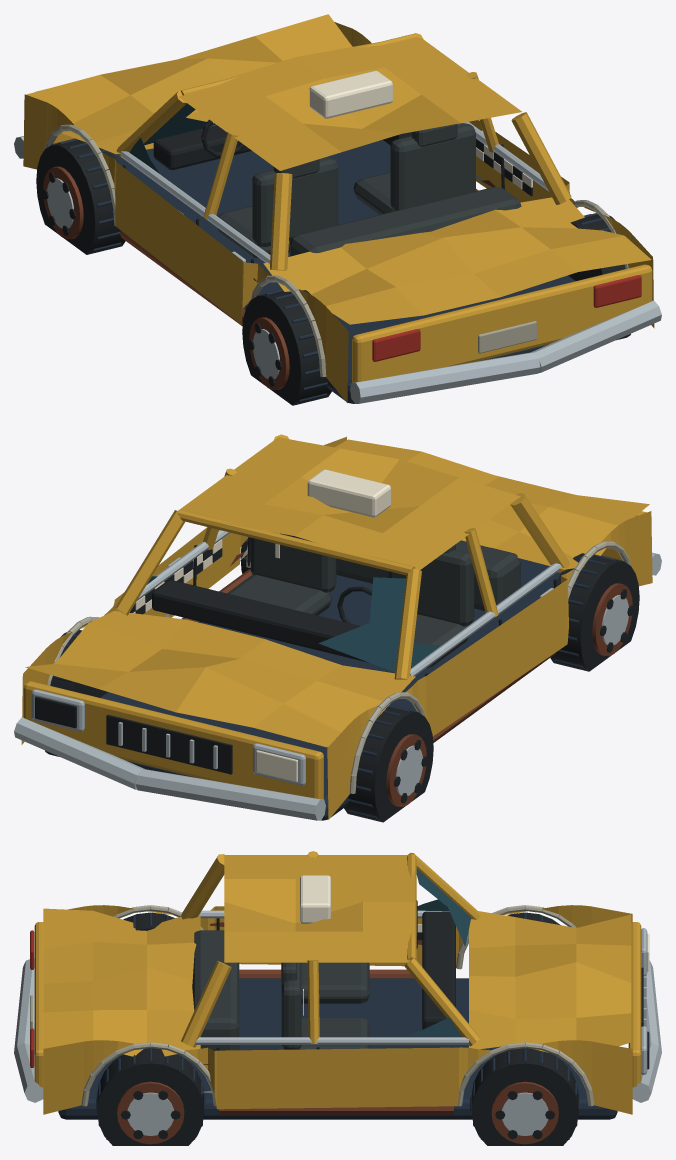
The model's file is crush_car_2.glb.
The picture shows the model from 3 angles, top to bottom: view 1: azimuth 30°, elevation 25°; view 2: azimuth 150°, elevation 25°; view 3: azimuth 270°, elevation 25°; orthographic projection. The views are drawn at different scales.
Parts seen in each view (by area): view 1: Wreck_Taxi mustard, Wreck_Torn charcoal upholstery.004, Wreck_Rubber, Wreck_Bare alloy, Wreck_Truss steel, Wreck_Scraped primer.004, Wreck_Warm white, Wreck_Exposed rust.004, Wreck_Cracked tail lens.004, Wreck_Wreck glass; view 2: Wreck_Taxi mustard, Wreck_Rubber, Wreck_Bare alloy, Wreck_Torn charcoal upholstery.004, Wreck_Truss steel, Wreck_Warm white, Wreck_Wreck glass, Wreck_Exposed rust.004, Wreck_Scraped primer.004; view 3: Wreck_Taxi mustard, Wreck_Rubber, Wreck_Truss steel, Wreck_Bare alloy, Wreck_Torn charcoal upholstery.004, Wreck_Exposed rust.004, Wreck_Scraped primer.004, Wreck_Wreck glass, Wreck_Warm white.
Part boxes in pixels (x1=…): Wreck_Taxi mustard: x1=23, y1=14, x2=654, y2=402; Wreck_Torn charcoal upholstery.004: x1=217, y1=123, x2=521, y2=258; Wreck_Rubber: x1=36, y1=119, x2=625, y2=405; Wreck_Bare alloy: x1=14, y1=90, x2=661, y2=403; Wreck_Truss steel: x1=51, y1=138, x2=630, y2=403; Wreck_Scraped primer.004: x1=44, y1=124, x2=628, y2=376; Wreck_Warm white: x1=309, y1=71, x2=532, y2=189; Wreck_Exposed rust.004: x1=43, y1=166, x2=550, y2=390; Wreck_Cracked tail lens.004: x1=372, y1=275, x2=641, y2=361; Wreck_Wreck glass: x1=129, y1=103, x2=215, y2=172; Wreck_Taxi mustard: x1=21, y1=434, x2=652, y2=819; Wreck_Rubber: x1=35, y1=537, x2=639, y2=822; Wreck_Bare alloy: x1=14, y1=530, x2=661, y2=820; Wreck_Torn charcoal upholstery.004: x1=227, y1=533, x2=520, y2=668; Wreck_Truss steel: x1=45, y1=539, x2=624, y2=820; Wreck_Warm white: x1=133, y1=469, x2=391, y2=782; Wreck_Wreck glass: x1=147, y1=576, x2=440, y2=672; Wreck_Exposed rust.004: x1=169, y1=551, x2=632, y2=806; Wreck_Scraped primer.004: x1=47, y1=535, x2=631, y2=793; Wreck_Taxi mustard: x1=34, y1=851, x2=641, y2=1114; Wreck_Rubber: x1=97, y1=900, x2=649, y2=1145; Wreck_Truss steel: x1=58, y1=913, x2=617, y2=1139; Wreck_Bare alloy: x1=14, y1=910, x2=661, y2=1135; Wreck_Torn charcoal upholstery.004: x1=192, y1=930, x2=369, y2=1050; Wreck_Exposed rust.004: x1=117, y1=922, x2=558, y2=1144; Wreck_Scraped primer.004: x1=30, y1=905, x2=594, y2=1106; Wreck_Wreck glass: x1=407, y1=868, x2=471, y2=1036; Wreck_Warm white: x1=300, y1=875, x2=649, y2=1015.
Size of the model in its own units: 2.99 by 1.61 by 5.19.
